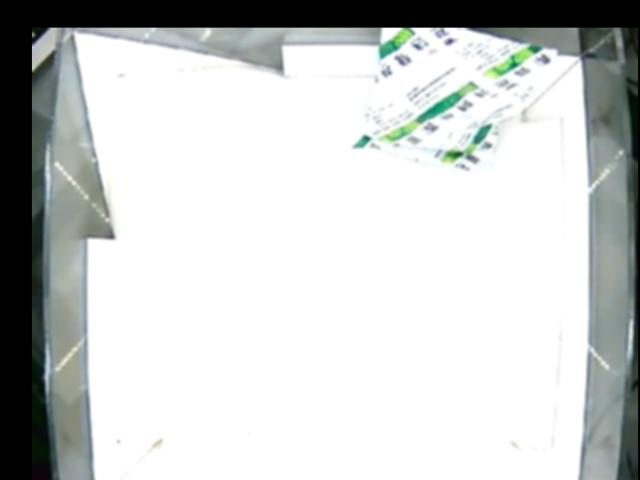Medicine: (352, 28, 560, 179)
